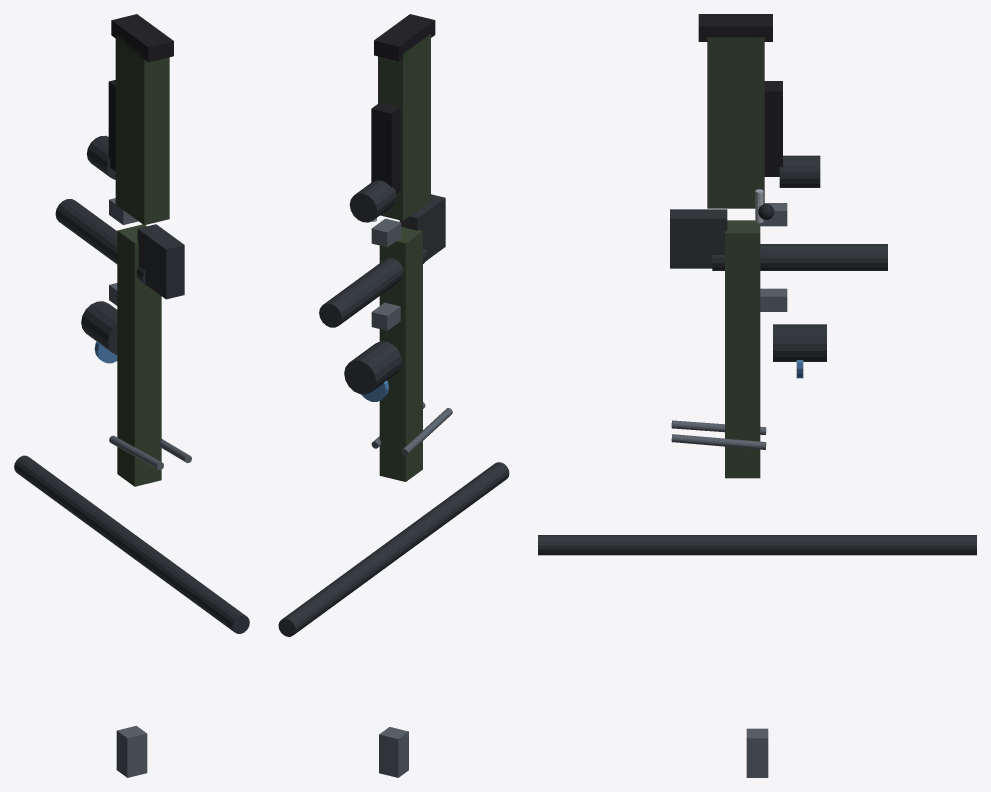
Rendered from awp.obj.
3 renders of one model, left to right at view 1: azimuth 30°, elevation 25°; view 2: azimuth 150°, elevation 25°; view 3: azimuth 270°, elevation 25°, orthographic. The views are drawn at different scales.
Visible parts, largest first — view 1: Weapon_AWP; view 2: Weapon_AWP; view 3: Weapon_AWP.
Part boxes in pixels (left/top/right/bottom): Weapon_AWP: left=14, top=14, right=249, bottom=777; Weapon_AWP: left=278, top=14, right=509, bottom=777; Weapon_AWP: left=538, top=14, right=976, bottom=777.
Bounding box in the file's own units: 0.099 × 1.23 × 0.65.
